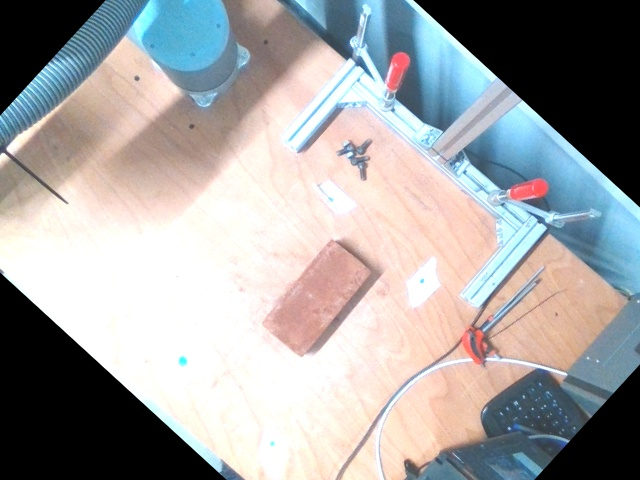brick: (264, 239, 372, 355)
